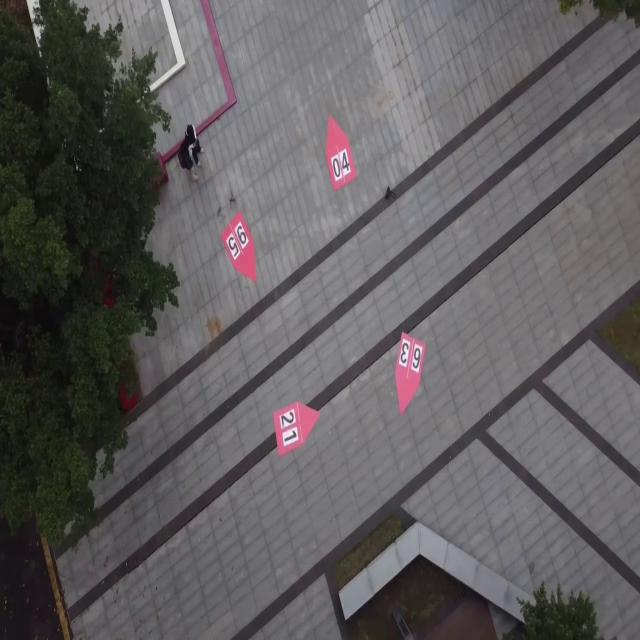-sign-: (394, 332, 426, 416), (220, 210, 256, 284), (272, 400, 318, 456), (326, 115, 356, 192)
